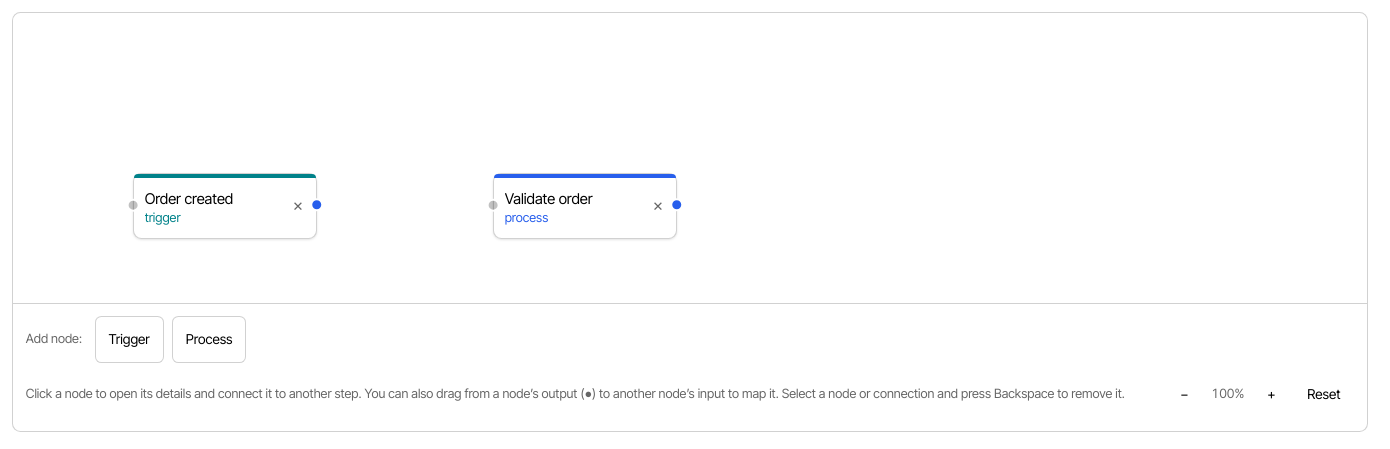
WorkflowMapper › adds a node from the palette
What coordinates should you click on to do the following:
click the button "Process"
I would click on:
 (209, 340)
Its box is [172,316,246,363].
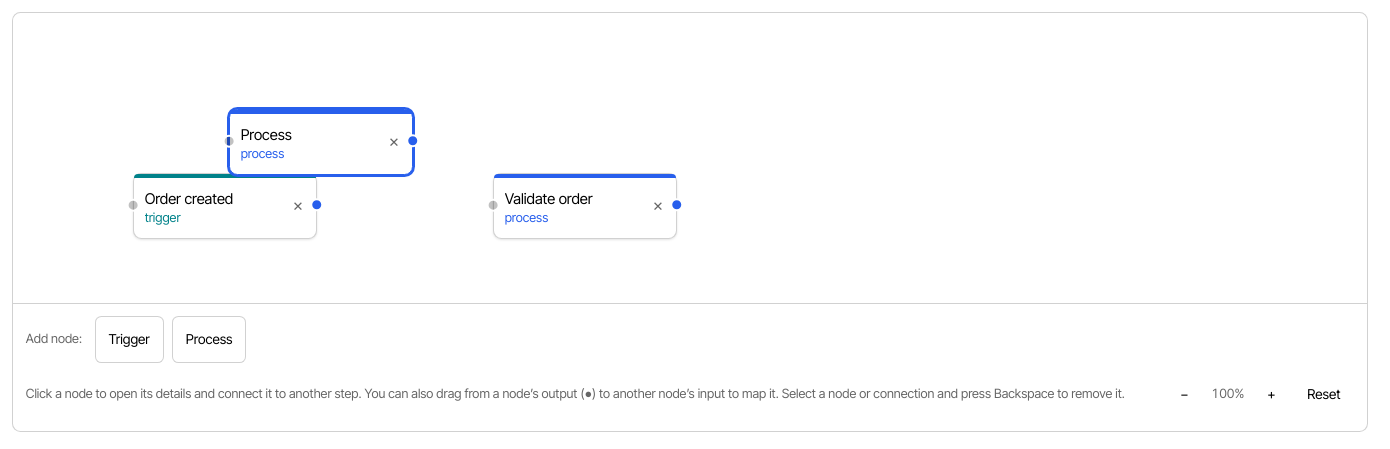
Expected: the text "process" below "Validate order" is shown, [505,210,548,225]
Expected: the text "Process" is shown, [241,126,292,144]
